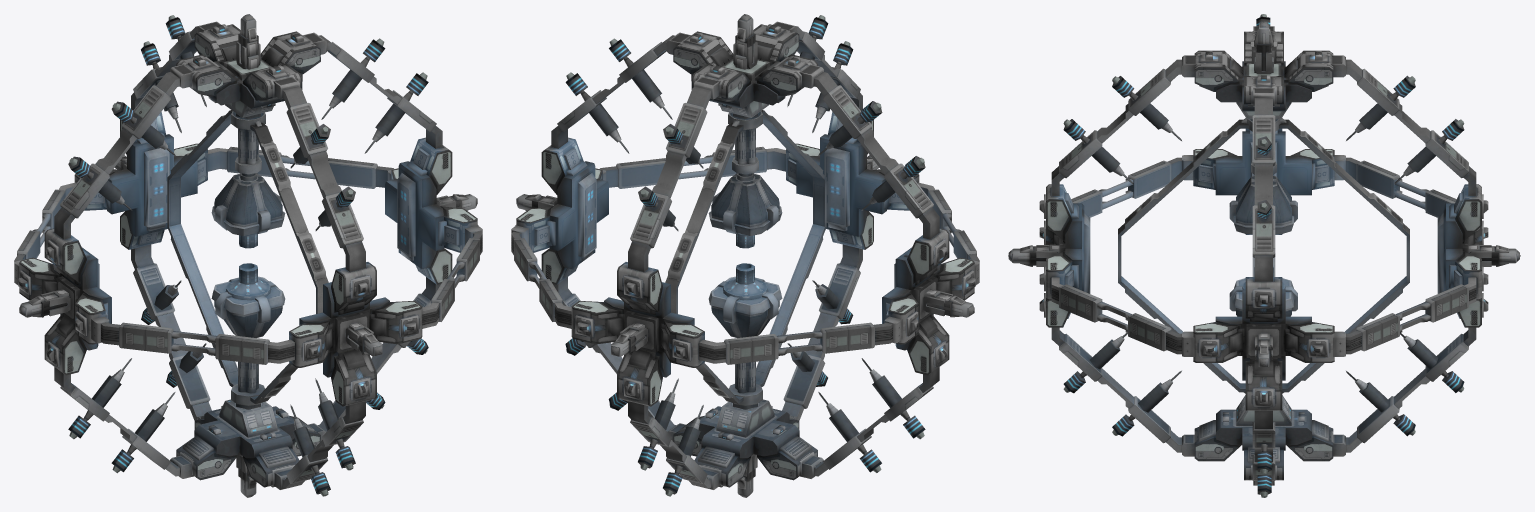
Rendered from 33589_lite.glb.
3 views of the same model, side by side, from view 1: azimuth 30°, elevation 25°; view 2: azimuth 150°, elevation 25°; view 3: azimuth 270°, elevation 25° (orthographic). The views are drawn at different scales.
Parts seen in each view (by area): view 1: ship; view 2: ship; view 3: ship.
Part boxes in pixels (<box>): ship: <box>14,14,482,497</box>; ship: <box>511,14,979,497</box>; ship: <box>1008,14,1520,497</box>.
Bounding box in the file's own units: 0.5374 × 0.5422 × 0.5378.
1 material, 1 textured.
